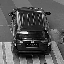motor: (14, 3, 47, 58)
